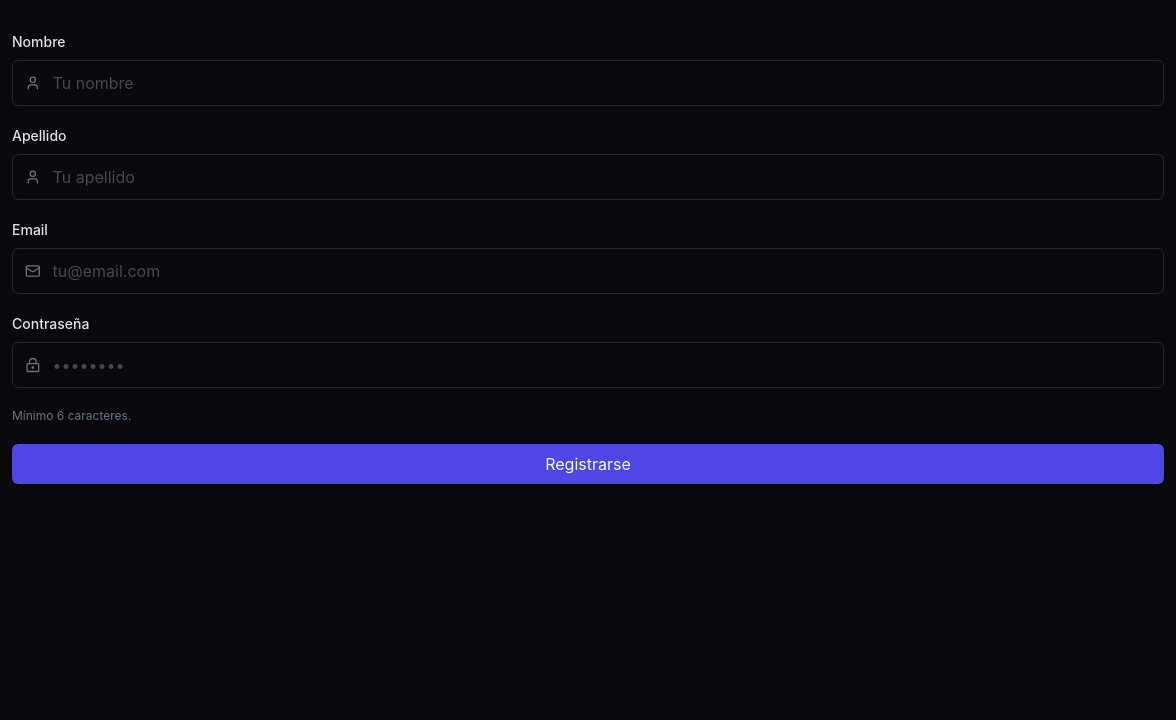
RegisterForm › shows a fallback error when response parsing fails
The image size is (1176, 720).
Type "Juan" into the field labelled "Nombre".
click(602, 83); type("Juan")  # box [53, 71, 1151, 95]
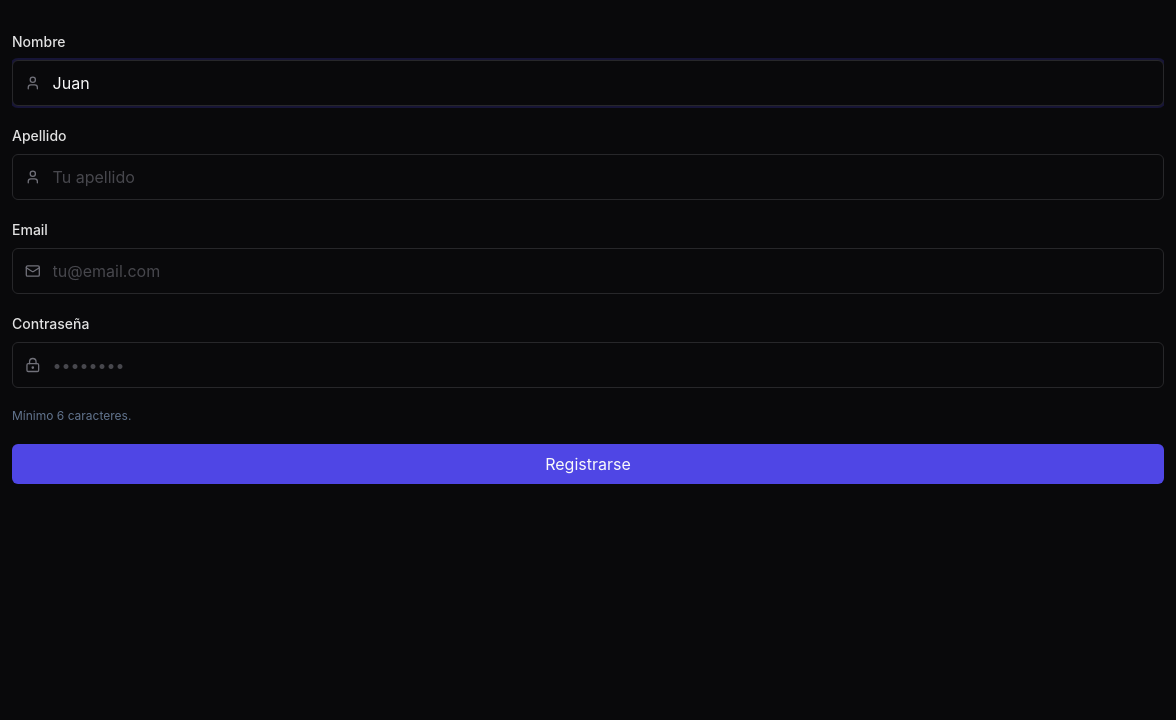
Type "Perez" into the field labelled "Apellido".
click(602, 177); type("Perez")  # box [53, 165, 1151, 189]
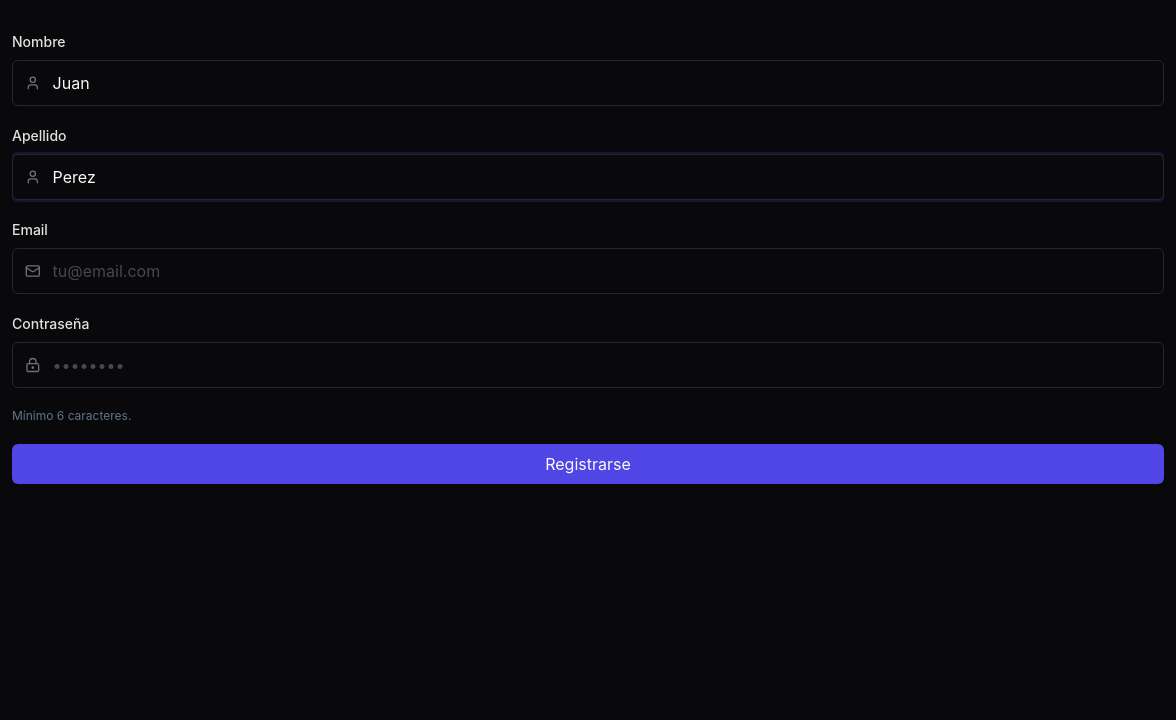
Type "juan@example.com" into the field labelled "Email".
click(602, 271); type("juan@example.com")  # box [53, 259, 1151, 283]
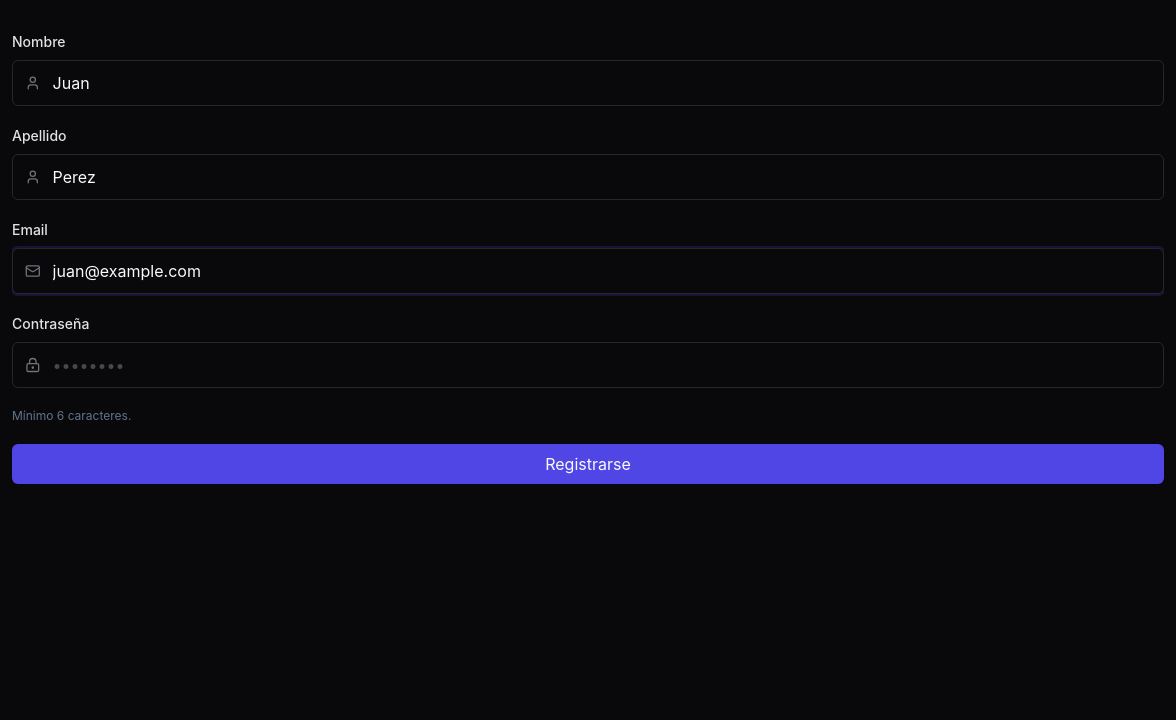
Type "password123" into the password field labelled "Contraseña".
click(602, 365); type("password123")  # box [53, 353, 1151, 377]
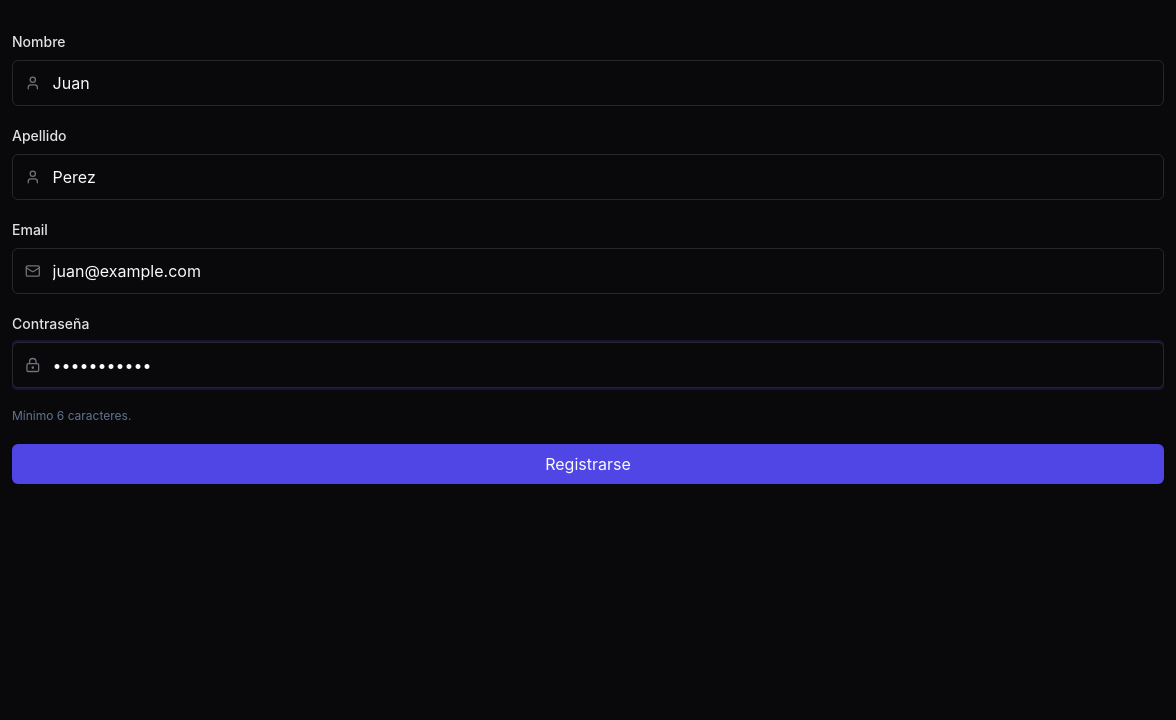
Click the button "Registrarse".
click(588, 464)  # box [12, 444, 1164, 484]
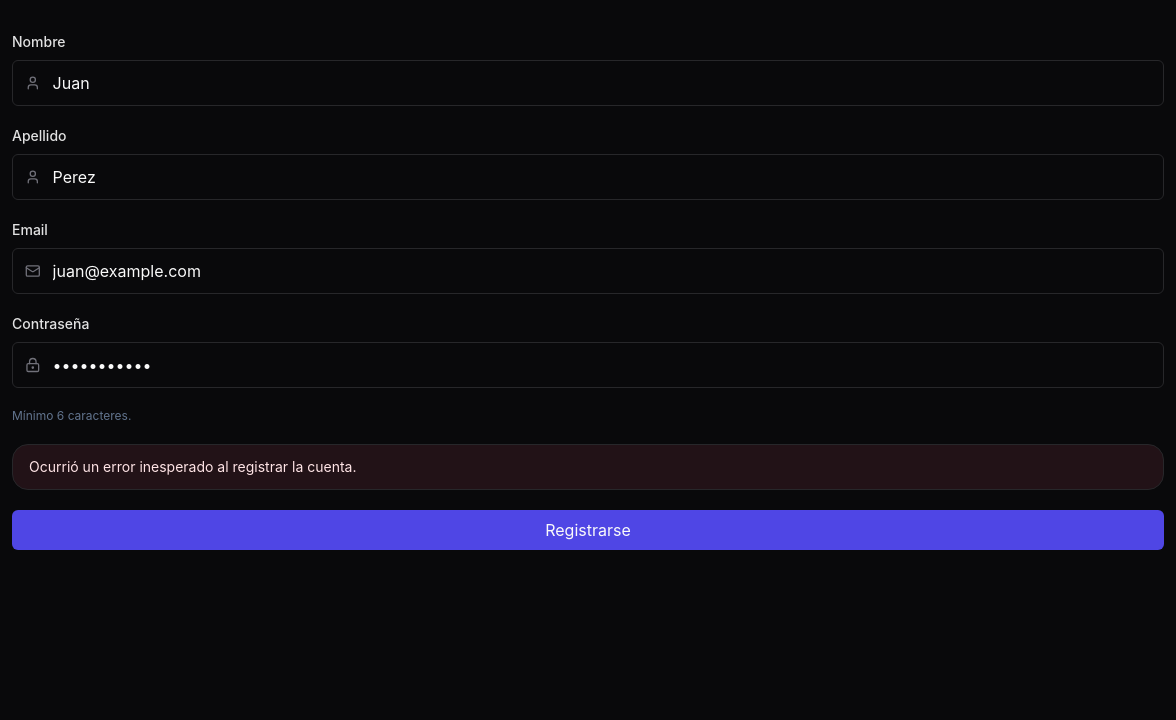
Check: the text "Ocurrió un error inesperado al registrar la cuenta." is shown, box [12, 444, 1164, 490]
